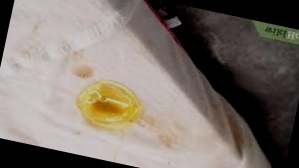oil: (72, 77, 151, 133), (131, 116, 189, 146), (66, 58, 100, 90), (56, 43, 85, 63)
